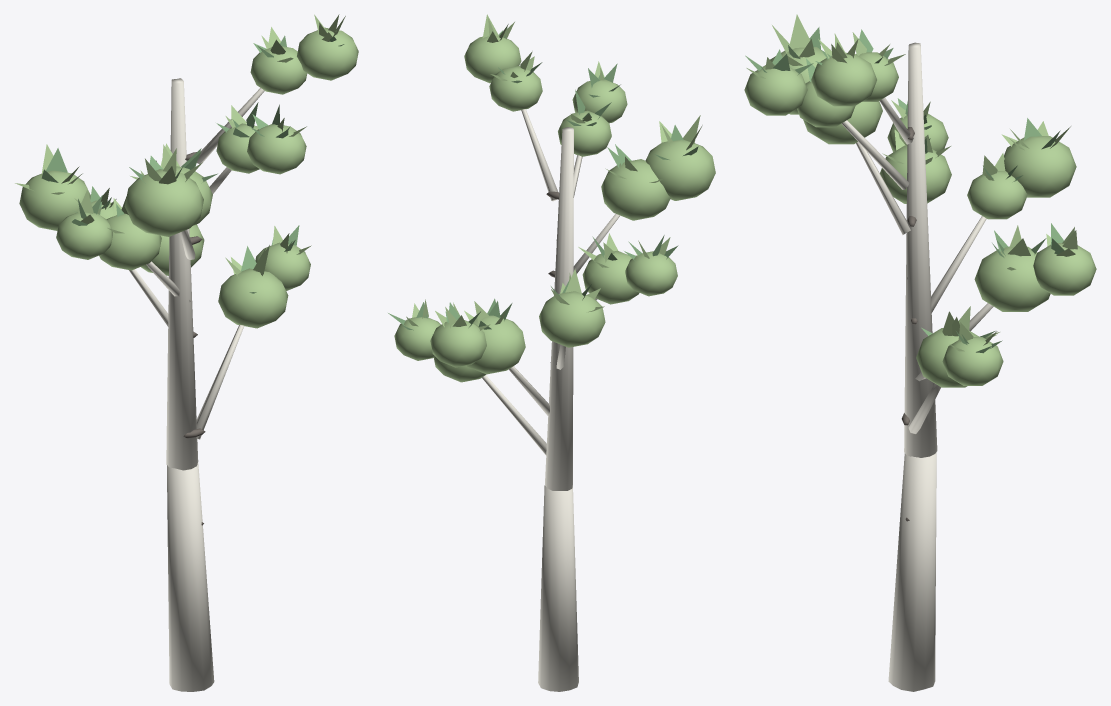
The model's file is birch.glb.
The picture shows the model from 3 angles, left to right: view 1: azimuth 30°, elevation 25°; view 2: azimuth 150°, elevation 25°; view 3: azimuth 270°, elevation 25°; orthographic projection. The views are drawn at different scales.
Parts seen in each view (by area): view 1: org_birch; view 2: org_birch; view 3: org_birch.
Boxes of the visible parts, x1,y1,x2,y2 form: org_birch: (15,14,358,691); org_birch: (388,14,715,691); org_birch: (744,14,1096,691).
Size of the model in its own units: 1.12 by 2.6 by 1.19.
